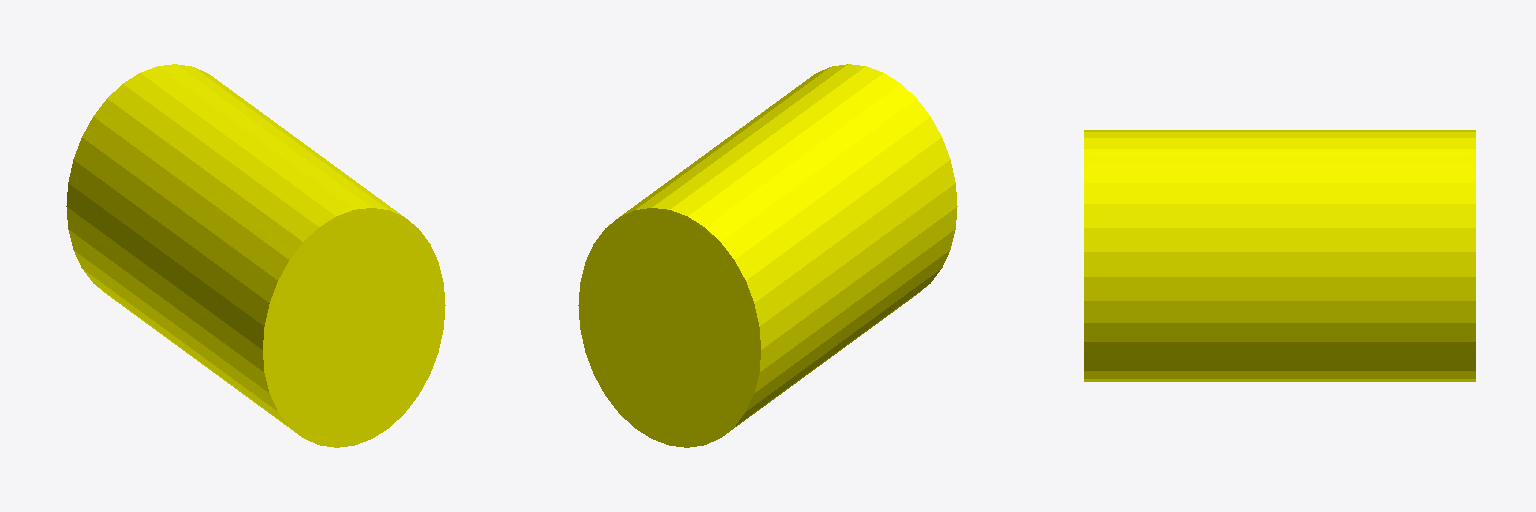
The model's file is Gkuka5.obj.
3 views of the same model, side by side, from view 1: azimuth 30°, elevation 25°; view 2: azimuth 150°, elevation 25°; view 3: azimuth 270°, elevation 25° (orthographic).
Visible parts, largest first — view 1: unnamed_object1; view 2: unnamed_object1; view 3: unnamed_object1.
Part boxes in pixels (x1,y1,x2,y2): unnamed_object1: (66, 64, 445, 447); unnamed_object1: (578, 64, 957, 447); unnamed_object1: (1084, 130, 1475, 381).
Bounding box in the file's own units: 0.1331 × 0.1642 × 0.2475.